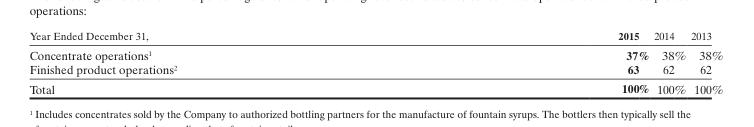table: (28, 29, 722, 96)
table column: (28, 29, 397, 96), (397, 29, 650, 96), (650, 29, 687, 96), (687, 29, 722, 96)
table column header: (28, 29, 722, 44)
table row: (28, 78, 722, 96), (28, 44, 722, 61), (28, 61, 722, 78), (28, 29, 722, 44)
